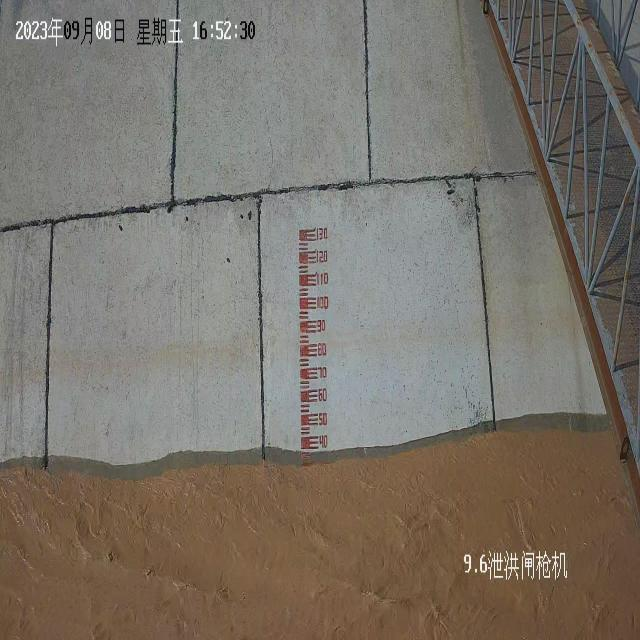ruler: (296, 220, 330, 456)
value: (315, 224, 329, 243), (316, 293, 330, 312), (315, 248, 329, 265), (316, 270, 329, 288), (317, 386, 328, 406), (316, 316, 328, 334), (316, 340, 328, 358), (316, 364, 328, 382), (317, 409, 328, 428), (318, 432, 329, 451)
